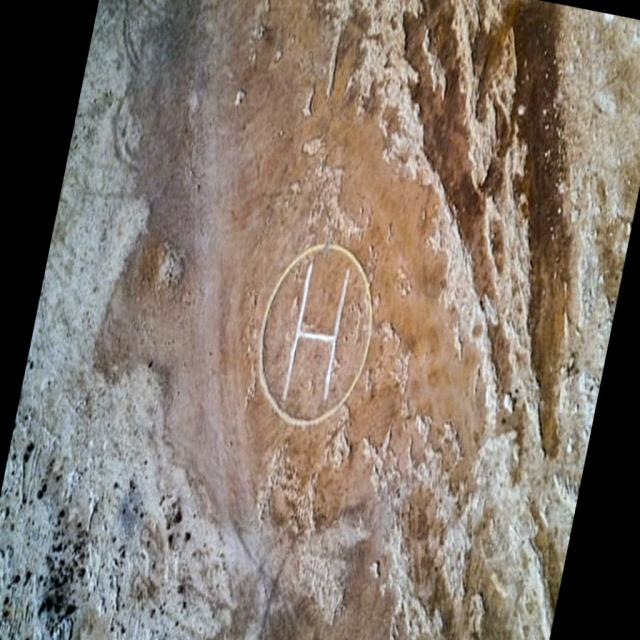helipad: (250, 238, 378, 430)
